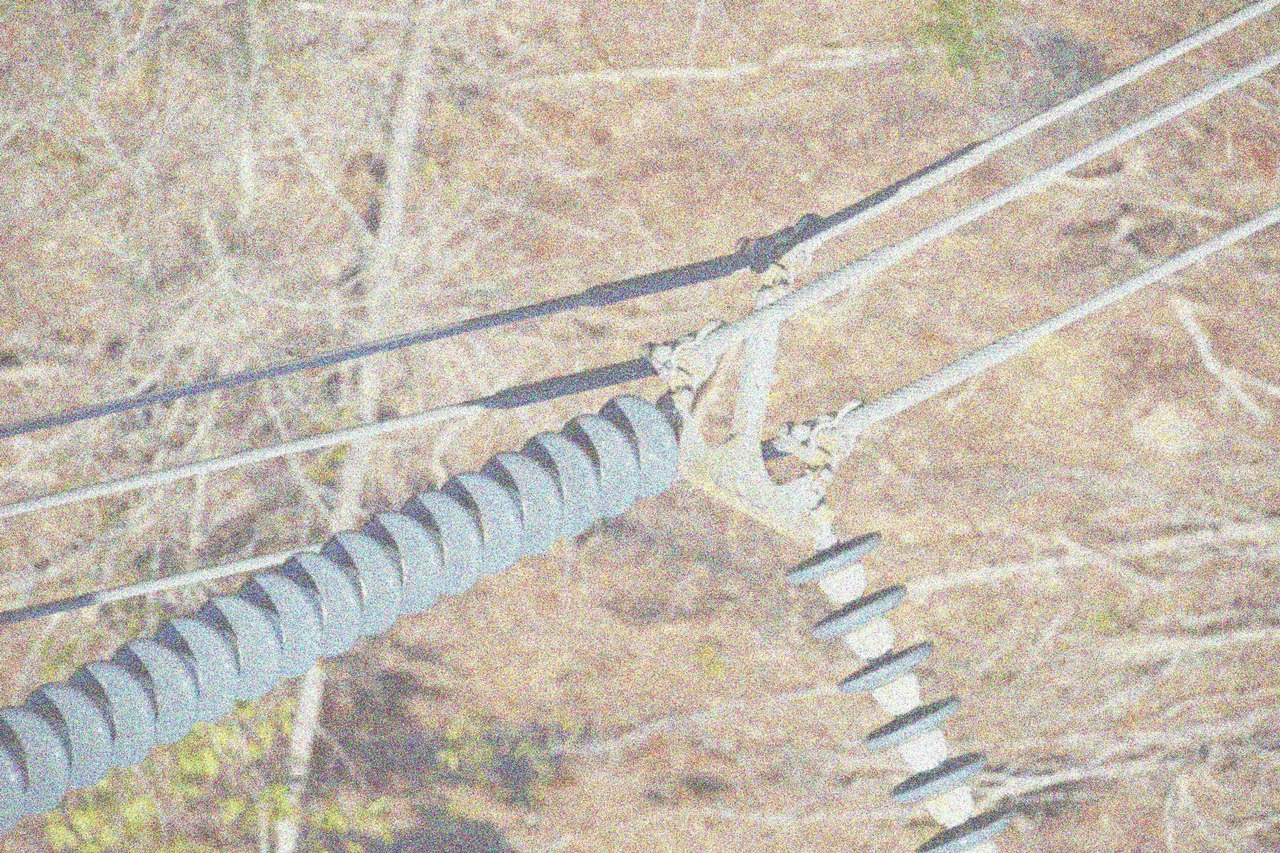Flashover damage: (518, 428, 603, 538), (562, 412, 644, 518), (600, 392, 680, 498)
No issues: (199, 590, 283, 703), (156, 611, 240, 724), (114, 635, 198, 748), (74, 657, 158, 770), (31, 679, 115, 791), (242, 569, 324, 681), (361, 508, 445, 617), (401, 489, 485, 597), (439, 470, 523, 578), (477, 450, 561, 558), (859, 691, 963, 775), (887, 748, 990, 832), (833, 635, 936, 719), (806, 578, 909, 662), (321, 529, 403, 634), (780, 529, 882, 606), (0, 704, 70, 815), (911, 806, 1016, 853)
String: (0, 385, 698, 827), (775, 497, 1025, 853)
